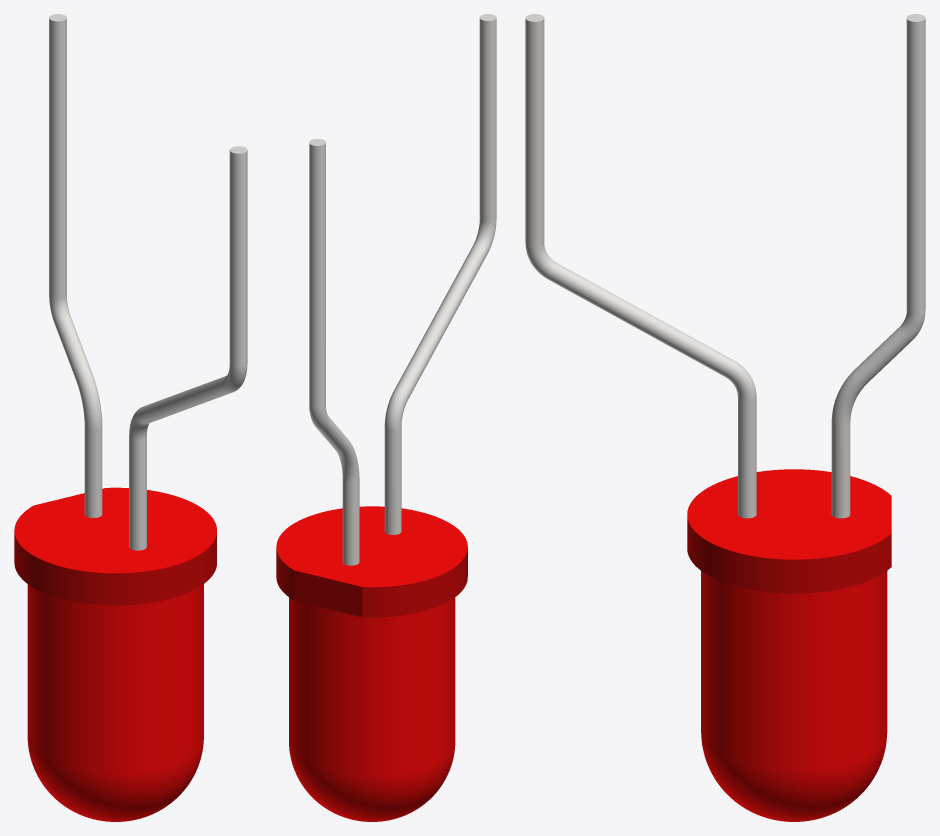
Rendered from LED.glb.
3 renders of one model, left to right at view 1: azimuth 30°, elevation 25°; view 2: azimuth 150°, elevation 25°; view 3: azimuth 270°, elevation 25°, orthographic. The views are drawn at different scales.
Parts seen in each view (by area): view 1: imagetostl_mesh1, imagetostl_mesh0, imagetostl_mesh2; view 2: imagetostl_mesh1, imagetostl_mesh0, imagetostl_mesh2, imagetostl_mesh3; view 3: imagetostl_mesh1, imagetostl_mesh0, imagetostl_mesh2.
Part boxes in pixels (x1,y1,x2,y2): imagetostl_mesh1: (14, 487, 216, 821); imagetostl_mesh0: (49, 14, 247, 550); imagetostl_mesh2: (14, 532, 216, 605); imagetostl_mesh1: (276, 506, 467, 821); imagetostl_mesh0: (309, 14, 496, 565); imagetostl_mesh2: (276, 547, 467, 617); imagetostl_mesh3: (294, 570, 362, 617); imagetostl_mesh1: (687, 469, 891, 821); imagetostl_mesh0: (525, 14, 925, 518); imagetostl_mesh2: (687, 518, 891, 593).
Bounding box in the file's own units: 5.7 × 23.35 × 10.66.
